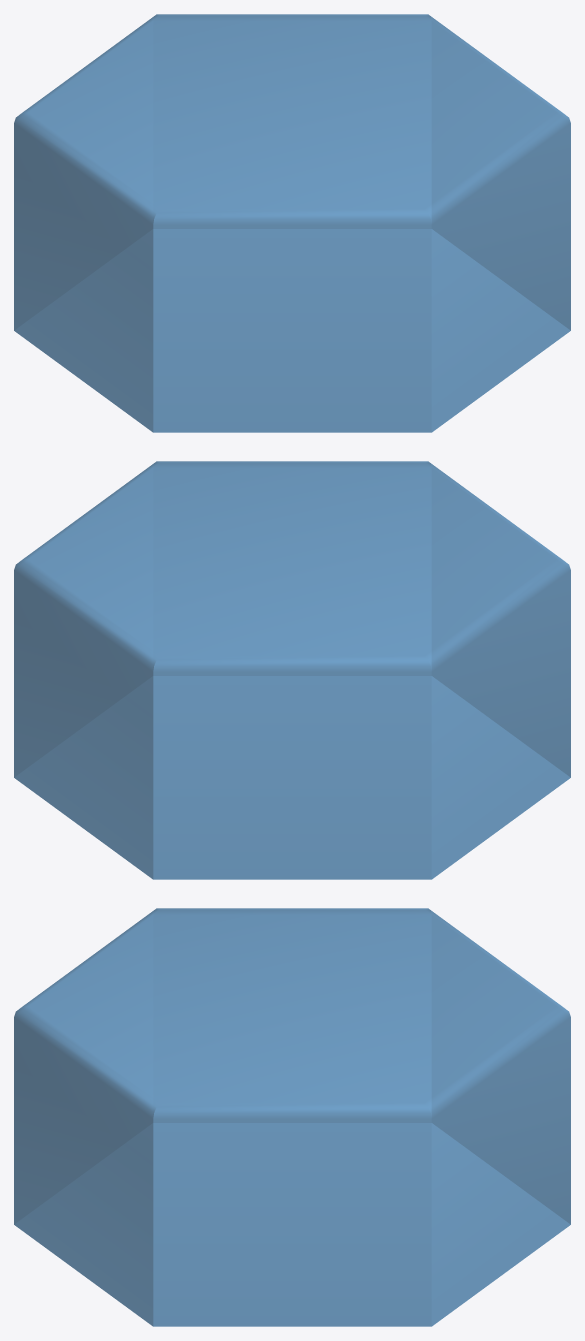
The model's file is snow_hex_water.fbx.
3 views of the same model, one above another, from view 1: azimuth 30°, elevation 25°; view 2: azimuth 150°, elevation 25°; view 3: azimuth 270°, elevation 25° (orthographic).
Parts seen in each view (by area): view 1: hex_water; view 2: hex_water; view 3: hex_water.
Part boxes in pixels (box(x1,y1,x2,y2)): hex_water: box(14, 14, 570, 432); hex_water: box(14, 461, 570, 879); hex_water: box(14, 908, 570, 1326).
Bounding box in the file's own units: 200 × 100 × 231.
